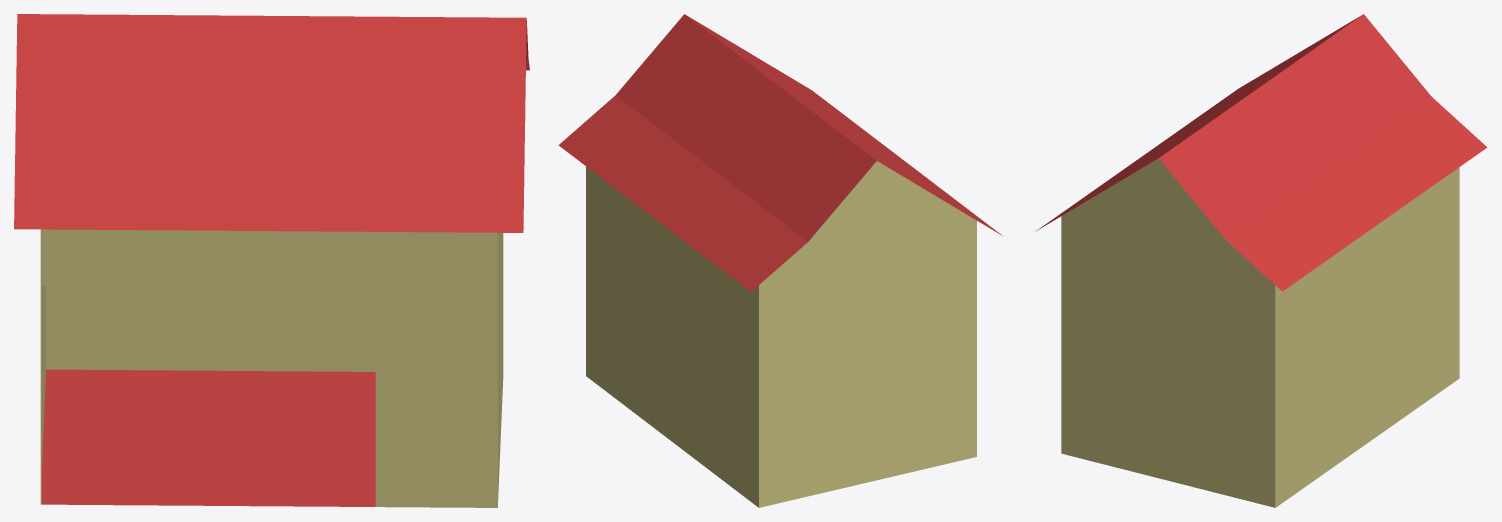
The picture shows the model from 3 angles, left to right: view 1: azimuth 30°, elevation 25°; view 2: azimuth 150°, elevation 25°; view 3: azimuth 270°, elevation 25°; orthographic projection. The views are drawn at different scales.
Bounding box in the file's own units: 18.09 × 16.73 × 13.42.
